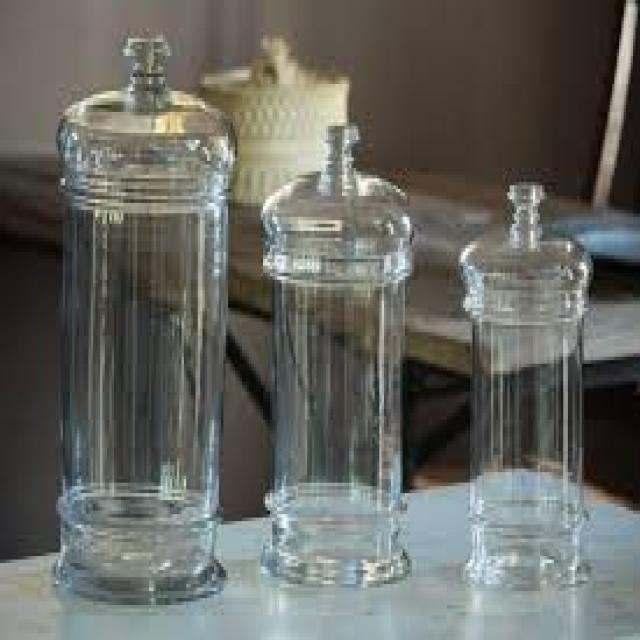Dry Waste: (51, 26, 239, 610)
